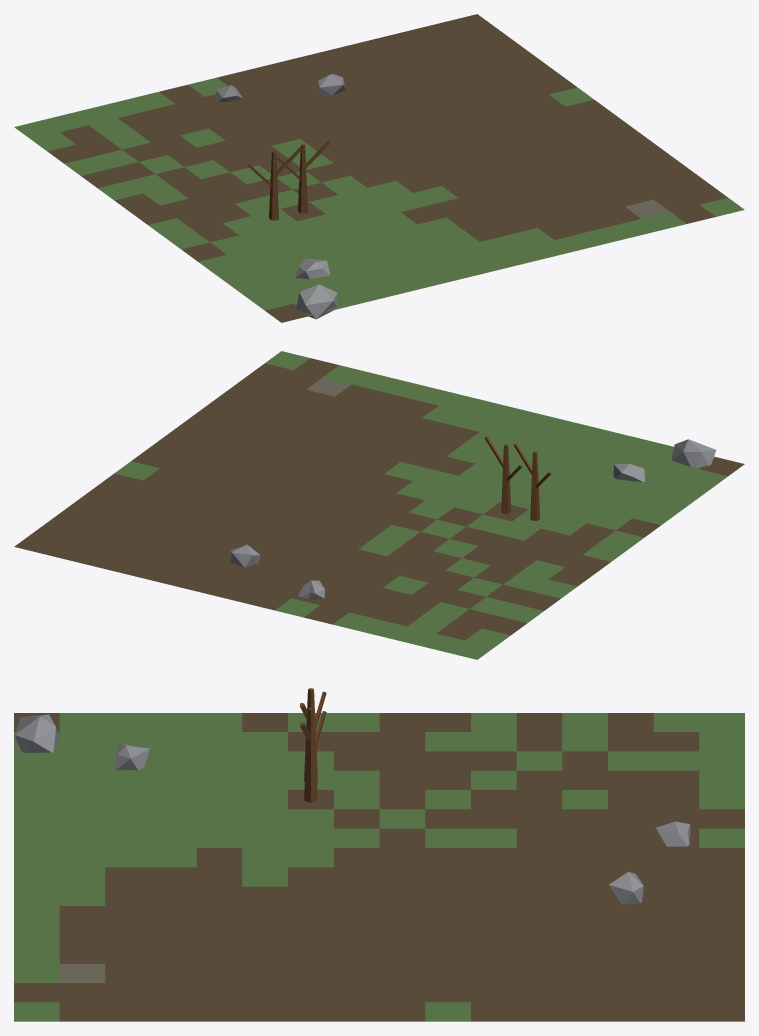
The model's file is chunk_0_18.glb.
3 renders of one model, top to bottom at view 1: azimuth 30°, elevation 25°; view 2: azimuth 150°, elevation 25°; view 3: azimuth 270°, elevation 25°, orthographic. The views are drawn at different scales.
Parts seen in each view (by area): view 1: chunk_0_18; view 2: chunk_0_18; view 3: chunk_0_18.
Part boxes in pixels (left/top/right/bottom): chunk_0_18: left=14, top=14, right=744, bottom=322; chunk_0_18: left=14, top=351, right=744, bottom=659; chunk_0_18: left=14, top=688, right=744, bottom=1021.
Size of the model in its own units: 16 by 2.64 by 16.
